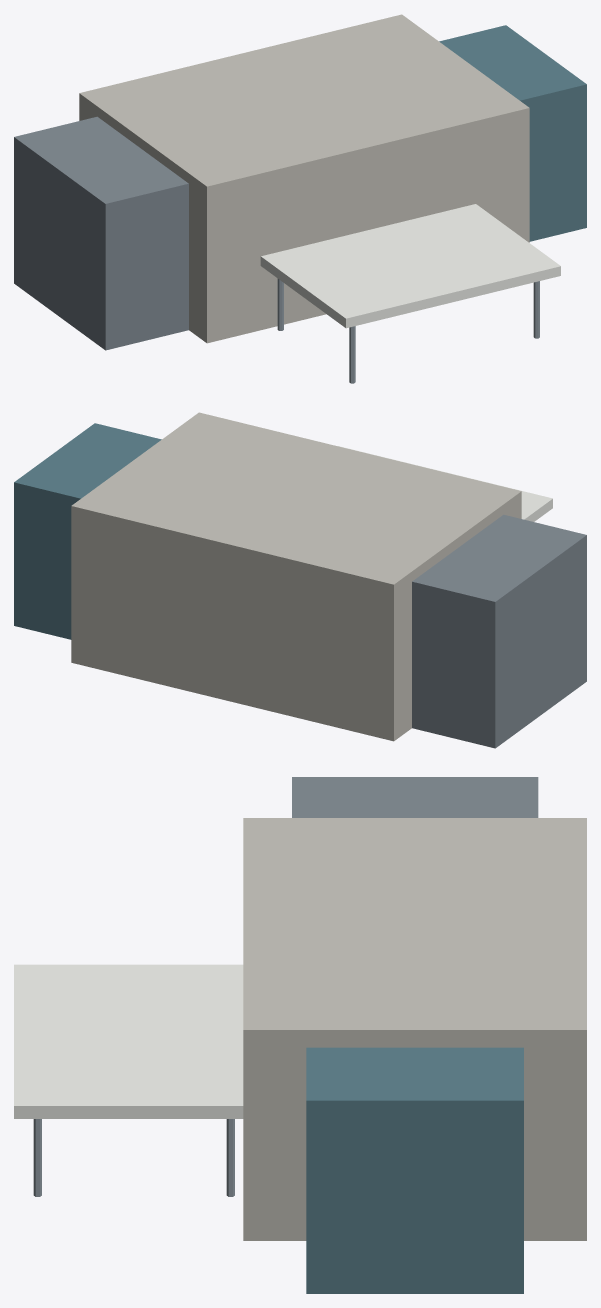
3 renders of one model, top to bottom at view 1: azimuth 30°, elevation 25°; view 2: azimuth 150°, elevation 25°; view 3: azimuth 270°, elevation 25°, orthographic. The views are drawn at different scales.
Parts seen in each view (by area): view 1: worldgen; view 2: worldgen; view 3: worldgen.
Boxes of the visible parts, box(x1,y1,x2,y2) form: worldgen: box(14, 14, 586, 383); worldgen: box(14, 412, 586, 748); worldgen: box(14, 777, 586, 1293).
Bounding box in the file's own units: 63.35 × 19.5 × 48.
